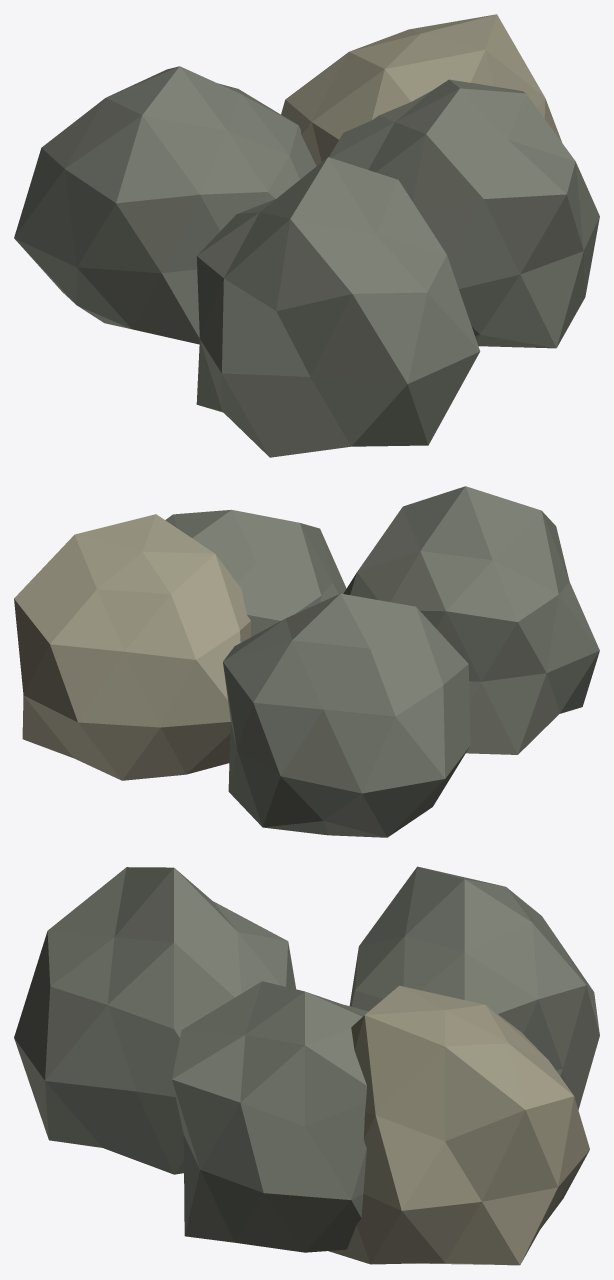
The model's file is resource-outcrop.glb.
3 views of the same model, one above another, from view 1: azimuth 30°, elevation 25°; view 2: azimuth 150°, elevation 25°; view 3: azimuth 270°, elevation 25° (orthographic). The views are drawn at different scales.
Visible parts, largest first — view 1: Limestone, Stone ledges; view 2: Limestone, Stone ledges; view 3: Limestone, Stone ledges.
Boxes of the visible parts, left/top/right/bottom form: Limestone: left=14, top=66, right=599, bottom=457; Stone ledges: left=281, top=14, right=561, bottom=165; Limestone: left=165, top=486, right=599, bottom=837; Stone ledges: left=14, top=514, right=250, bottom=780; Limestone: left=14, top=866, right=599, bottom=1252; Stone ledges: left=328, top=985, right=589, bottom=1265.
Bounding box in the file's own units: 2.24 × 1.08 × 2.26.
